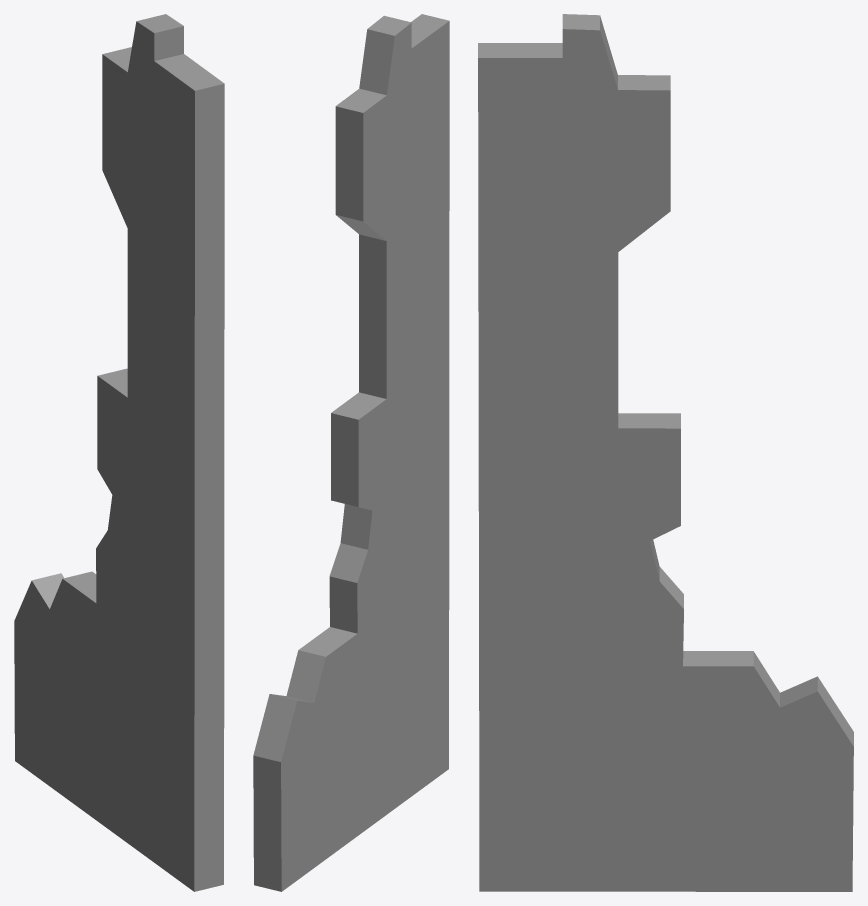
File: wall_6.fbx
3 views of the same model, side by side, from view 1: azimuth 30°, elevation 25°; view 2: azimuth 150°, elevation 25°; view 3: azimuth 270°, elevation 25° (orthographic). The views are drawn at different scales.
Visible parts, largest first — view 1: Object.020; view 2: Object.020; view 3: Object.020.
Part boxes in pixels (x1=…): Object.020: x1=14, y1=14, x2=224, y2=891; Object.020: x1=253, y1=14, x2=449, y2=891; Object.020: x1=478, y1=14, x2=853, y2=891.
Size of the model in its own units: 60 by 1603 by 633.
